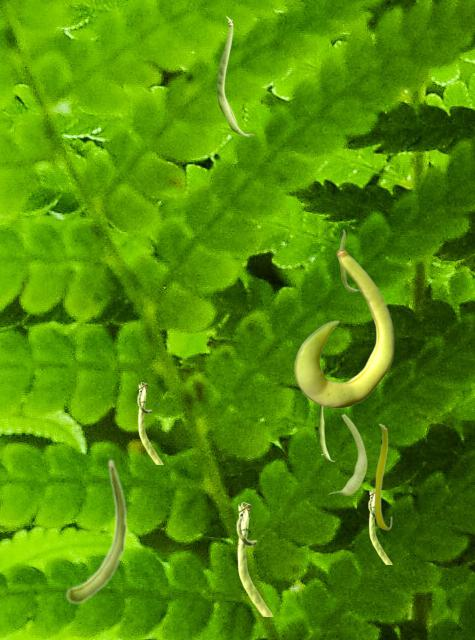french_bean: (294, 249, 393, 407), (65, 458, 127, 603), (217, 16, 253, 135), (236, 502, 272, 615), (328, 413, 366, 494), (137, 382, 162, 463), (374, 423, 391, 529), (368, 489, 391, 563), (338, 229, 359, 291), (318, 406, 334, 460)
